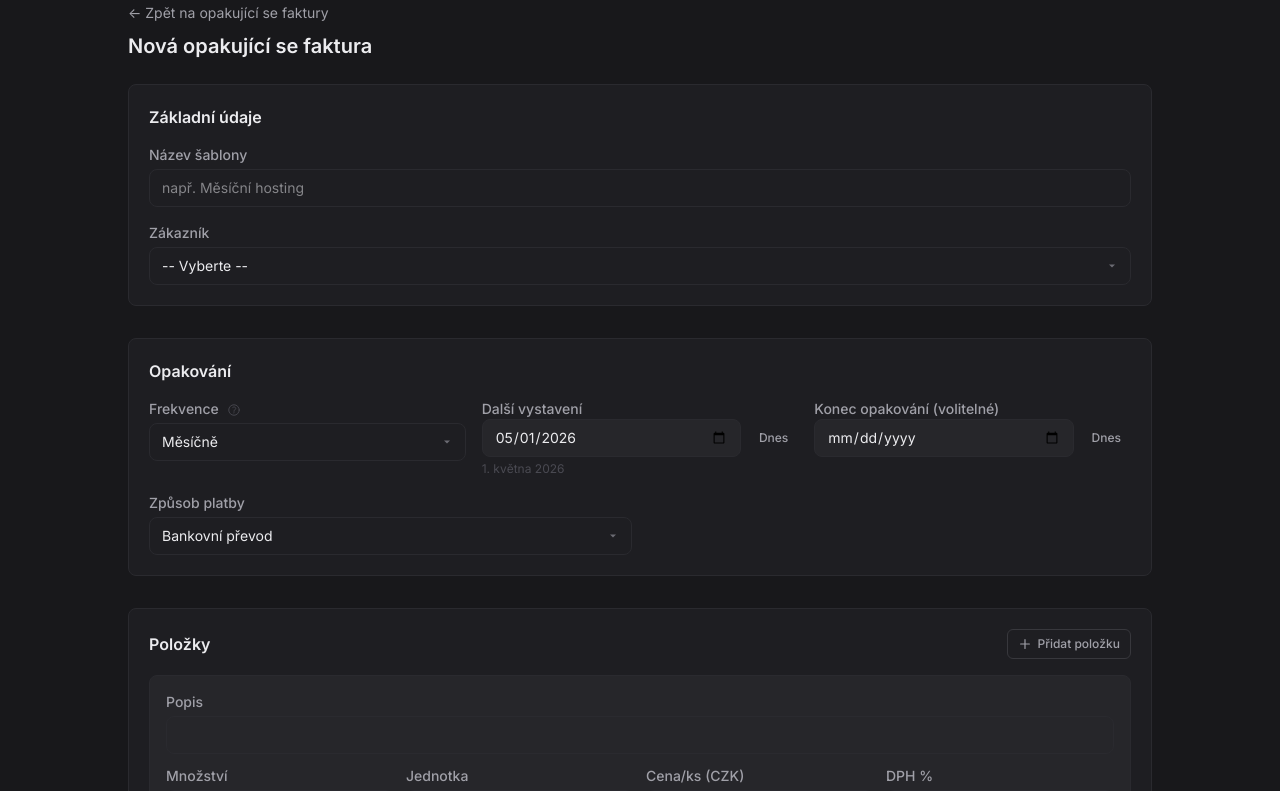
Test case: New recurring invoice page › adds a line item when Přidat položku is clicked
Click the button "Přidat položku" at (1069, 644), box [1006,629,1131,659]
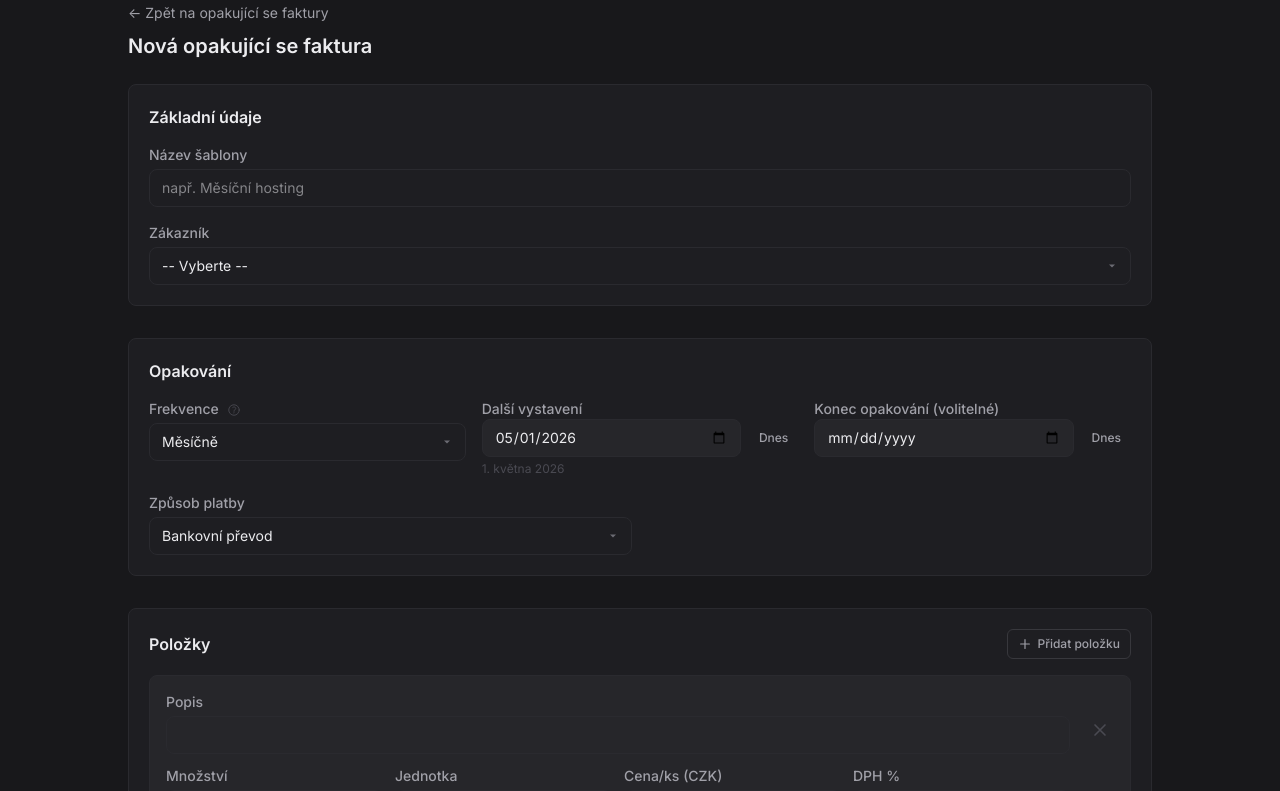
Result: the number of fields labelled "Popis" is 2
